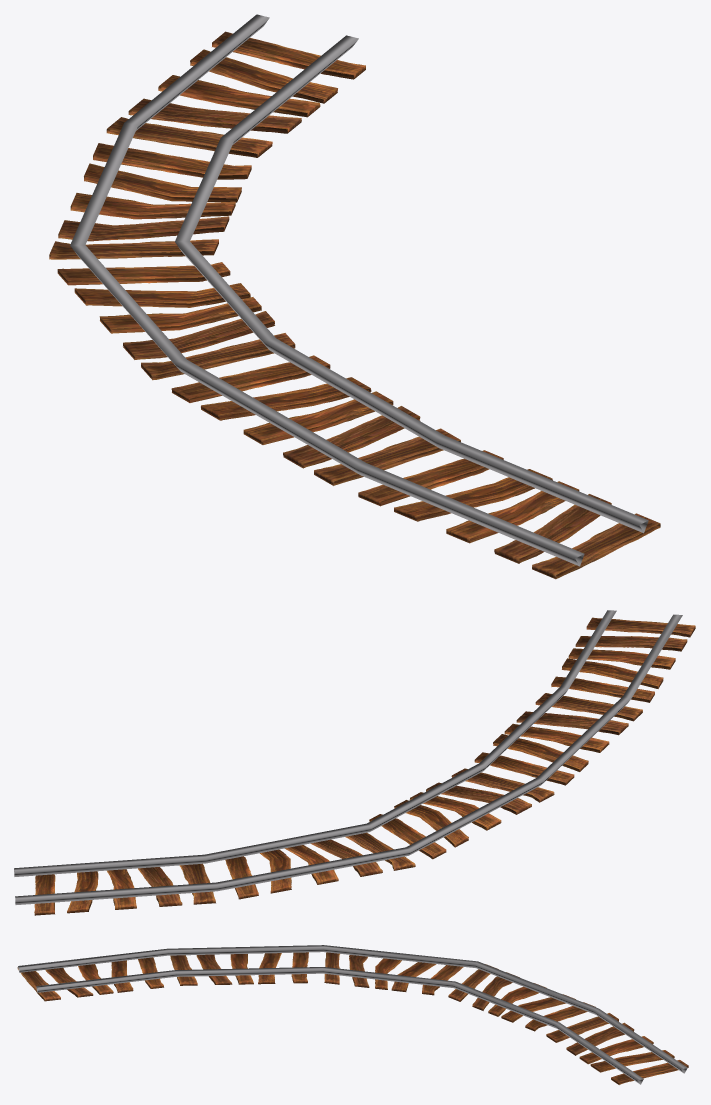
File: SWORDLIGHT20_TRACK5.fbx
3 views of the same model, one above another, from view 1: azimuth 30°, elevation 25°; view 2: azimuth 150°, elevation 25°; view 3: azimuth 270°, elevation 25° (orthographic). The views are drawn at different scales.
Parts seen in each view (by area): view 1: SWORDLIGHT20_TRACK5; view 2: SWORDLIGHT20_TRACK5; view 3: SWORDLIGHT20_TRACK5.
Boxes of the visible parts, x1=… form: SWORDLIGHT20_TRACK5: x1=49, y1=14, x2=660, y2=579; SWORDLIGHT20_TRACK5: x1=14, y1=610, x2=695, y2=915; SWORDLIGHT20_TRACK5: x1=17, y1=945, x2=688, y2=1084.
Size of the model in its own units: 61446 by 5340 by 137743.
Materials: 2 (2 with a texture image).
